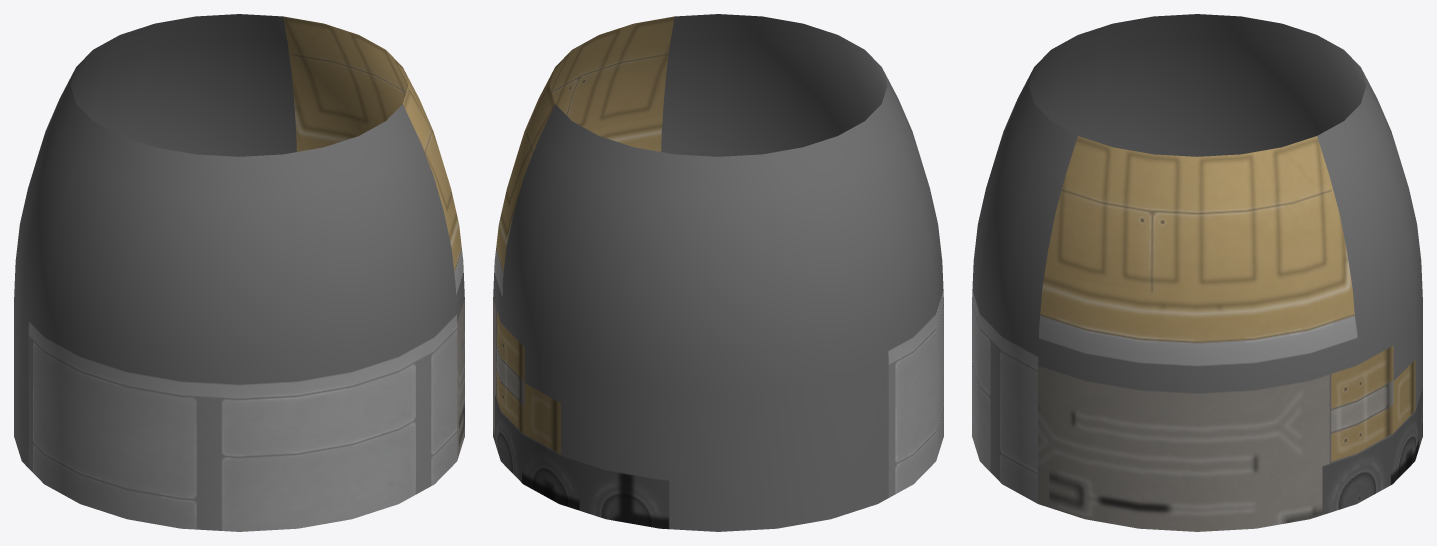
Rendered from Hamal_Control_2.obj.
3 views of the same model, side by side, from view 1: azimuth 30°, elevation 25°; view 2: azimuth 150°, elevation 25°; view 3: azimuth 270°, elevation 25° (orthographic).
Parts seen in each view (by area): view 1: Hamal_Control_2; view 2: Hamal_Control_2; view 3: Hamal_Control_2.
Boxes of the visible parts, left/top/right/bottom form: Hamal_Control_2: left=14, top=14, right=464, bottom=531; Hamal_Control_2: left=493, top=14, right=943, bottom=531; Hamal_Control_2: left=972, top=14, right=1422, bottom=531.
Size of the model in its own units: 1.25 by 1.08 by 1.25.
